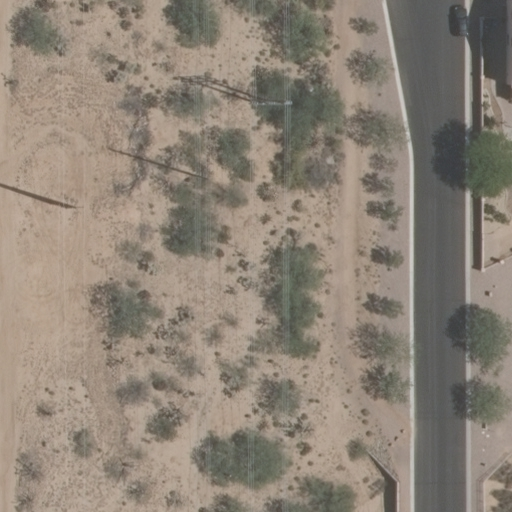DT: (185, 167, 211, 186), (59, 198, 80, 215)
TT: (201, 77, 293, 106)
